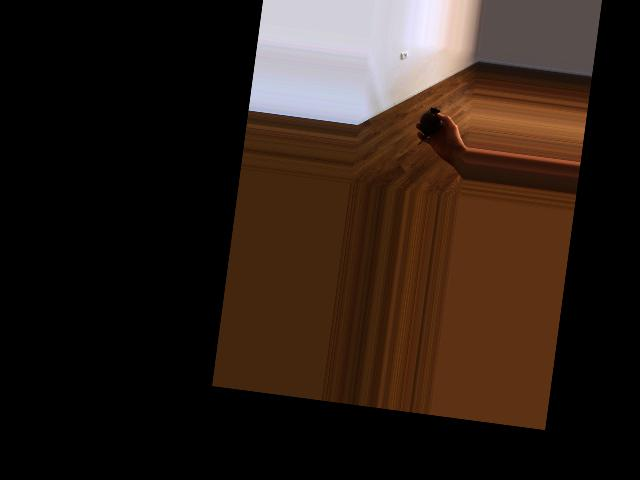beet: (416, 106, 443, 147)
